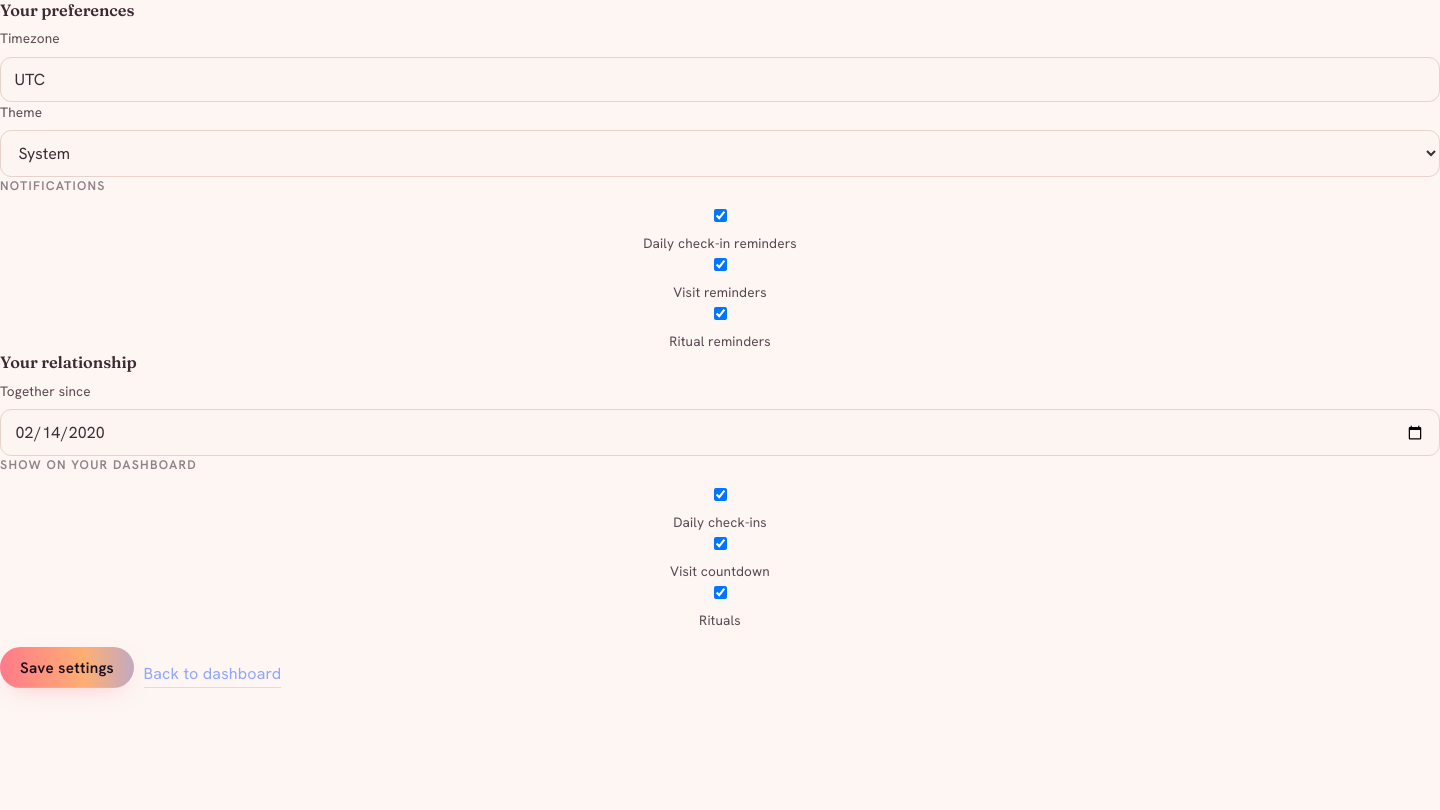
Test case: SettingsForm › loads settings and saves edited user + couple preferences
Expected: the heading "Your preferences" is shown, x1=0 y1=0 x2=134 y2=20
Step 1. Type "Europe/Rome" into the field labelled "Timezone" → (720, 79), box x1=0 y1=56 x2=1439 y2=102
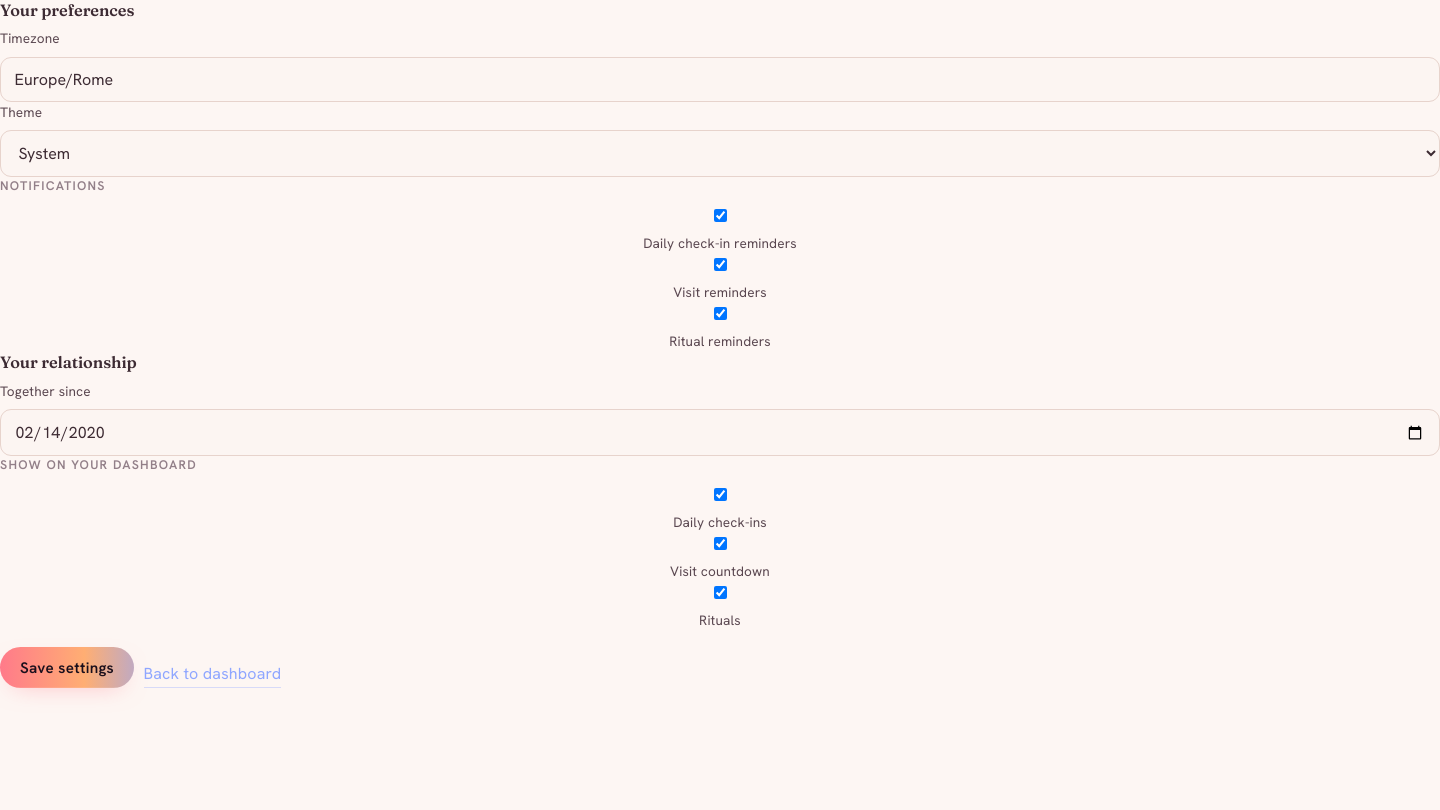
Step 2. Select "Dark" in the dropdown labelled "Theme" → (720, 154), box x1=0 y1=130 x2=1439 y2=177
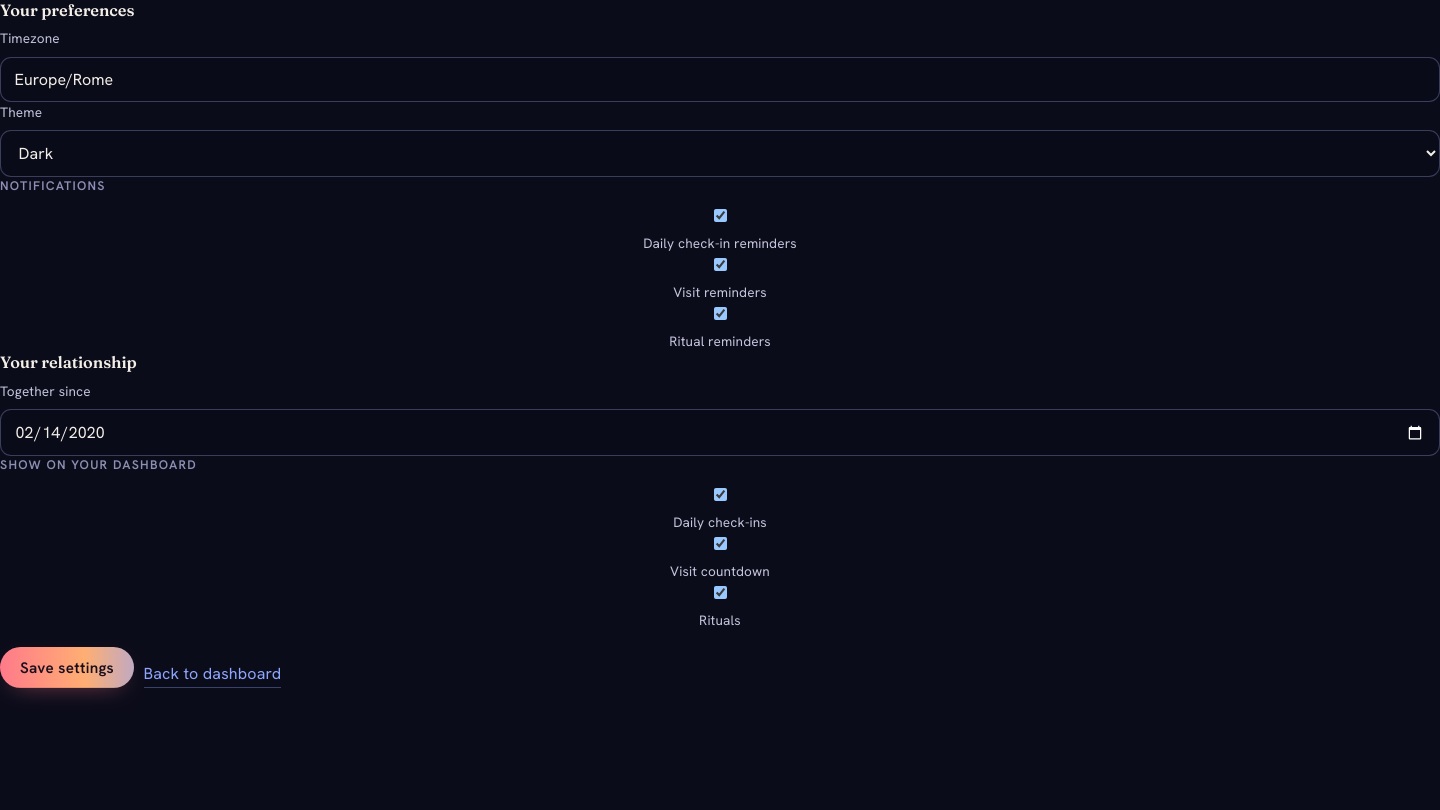
Step 3. Click the checkbox labelled "Visit reminders" → click(720, 264), box x1=714 y1=258 x2=727 y2=271
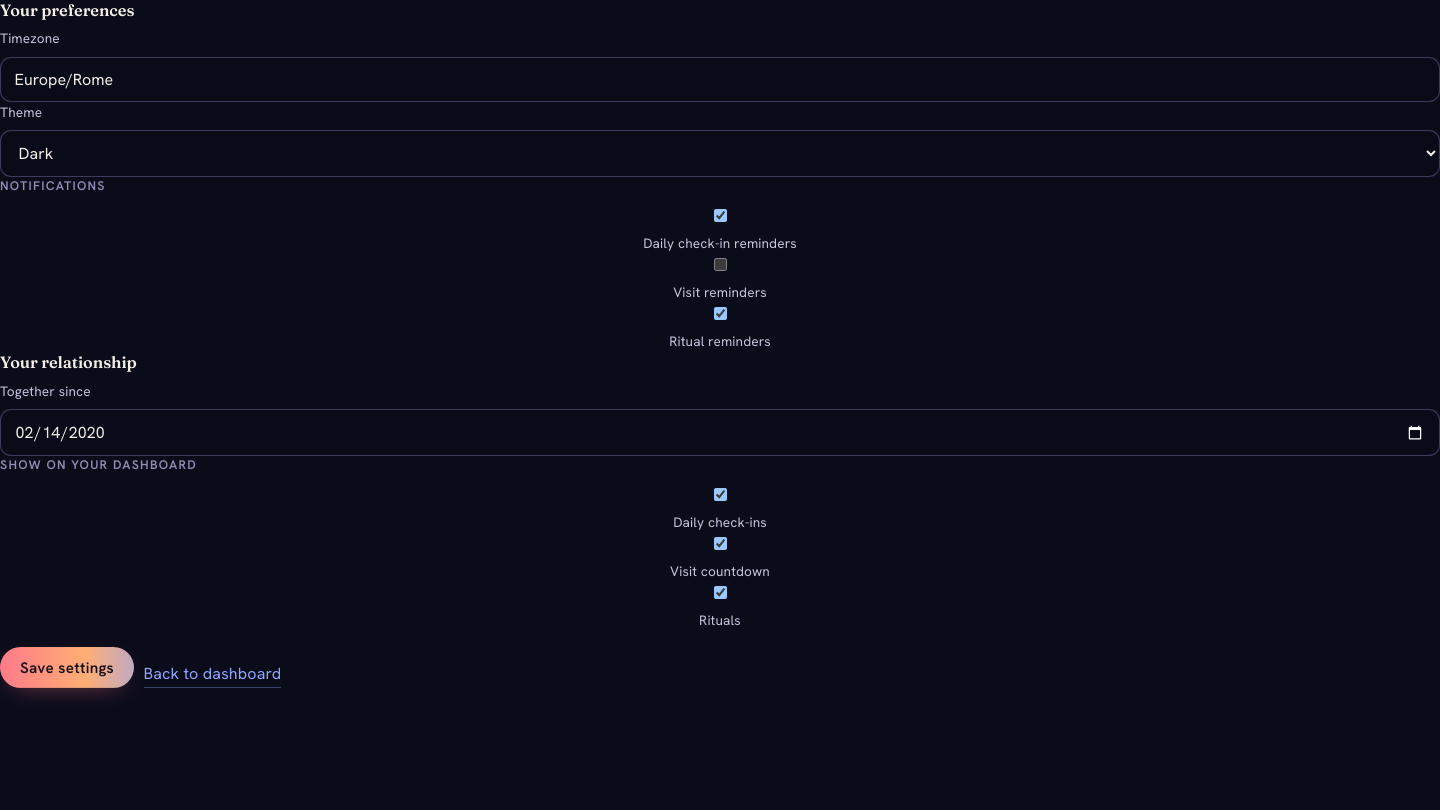
Step 4. Click the checkbox labelled "Rituals" → click(720, 592), box x1=714 y1=586 x2=727 y2=599
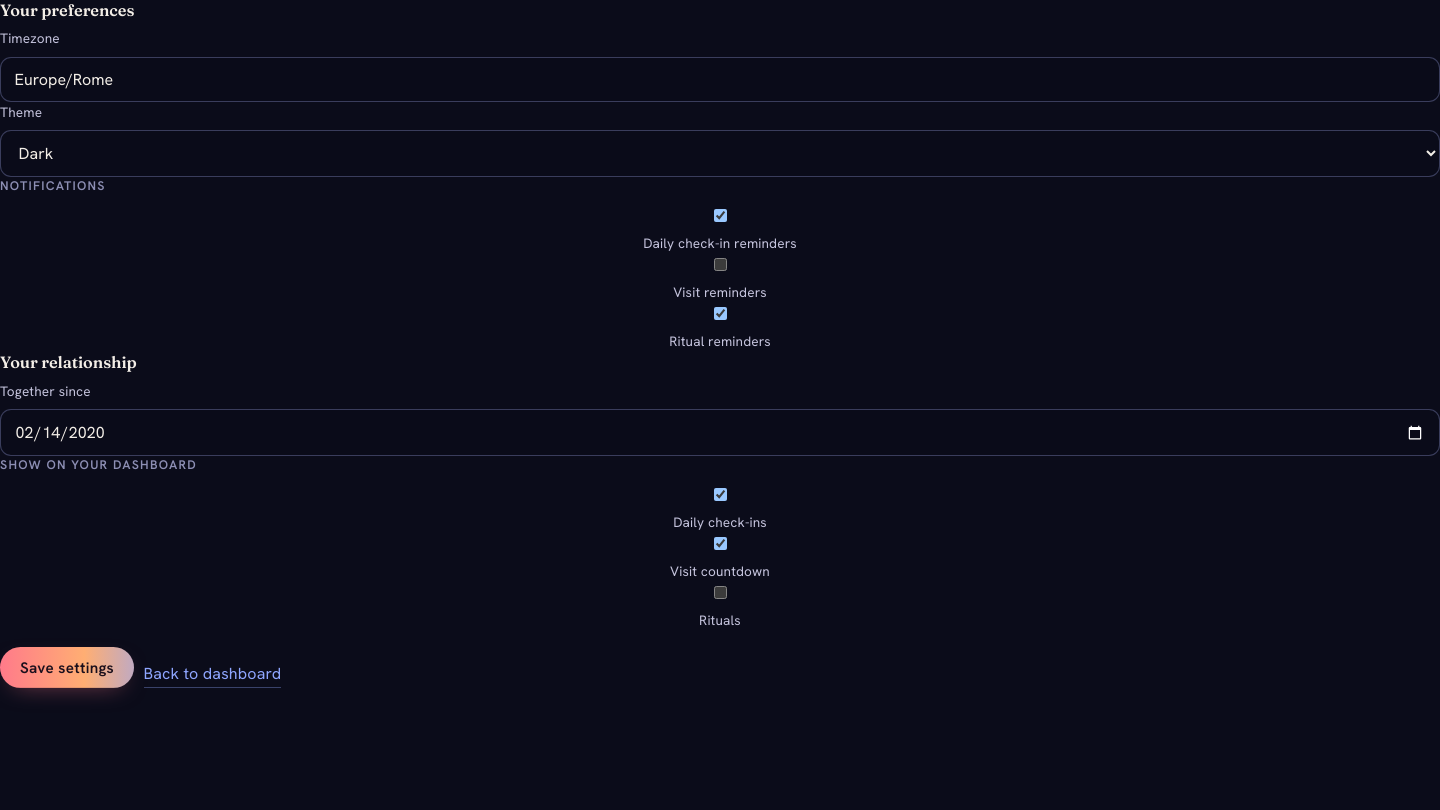
Step 5. Click the button "Save settings" → click(67, 668), box x1=0 y1=647 x2=134 y2=688
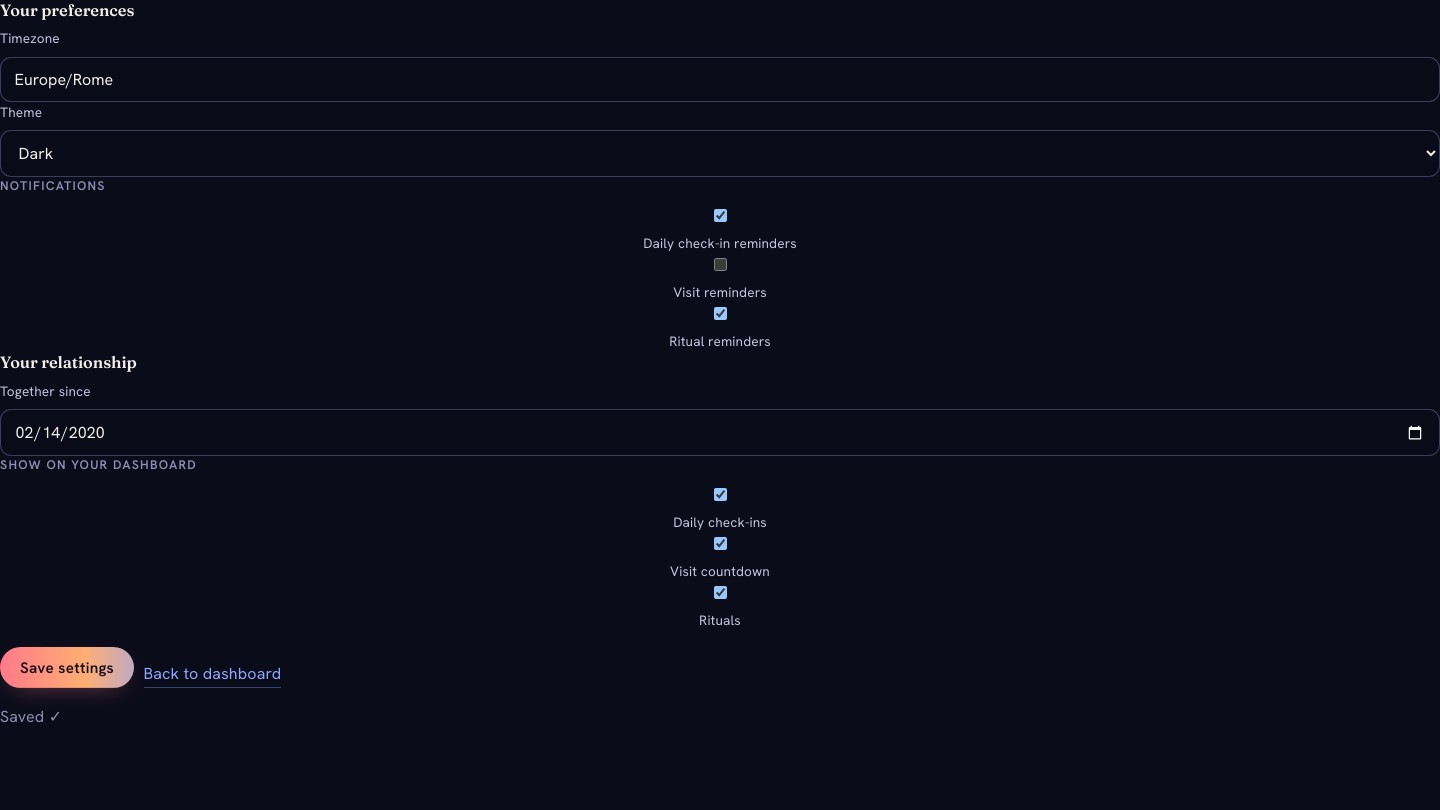
Result: the text "Saved ✓" is shown at x1=0 y1=706 x2=62 y2=727
